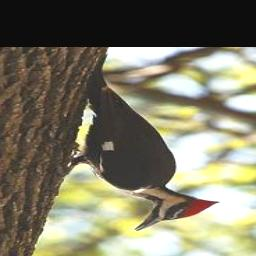Woodpecker: (43, 54, 220, 232)
